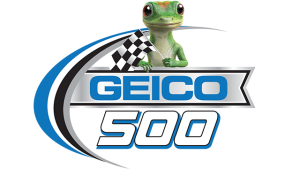geico: (89, 74, 235, 102)
